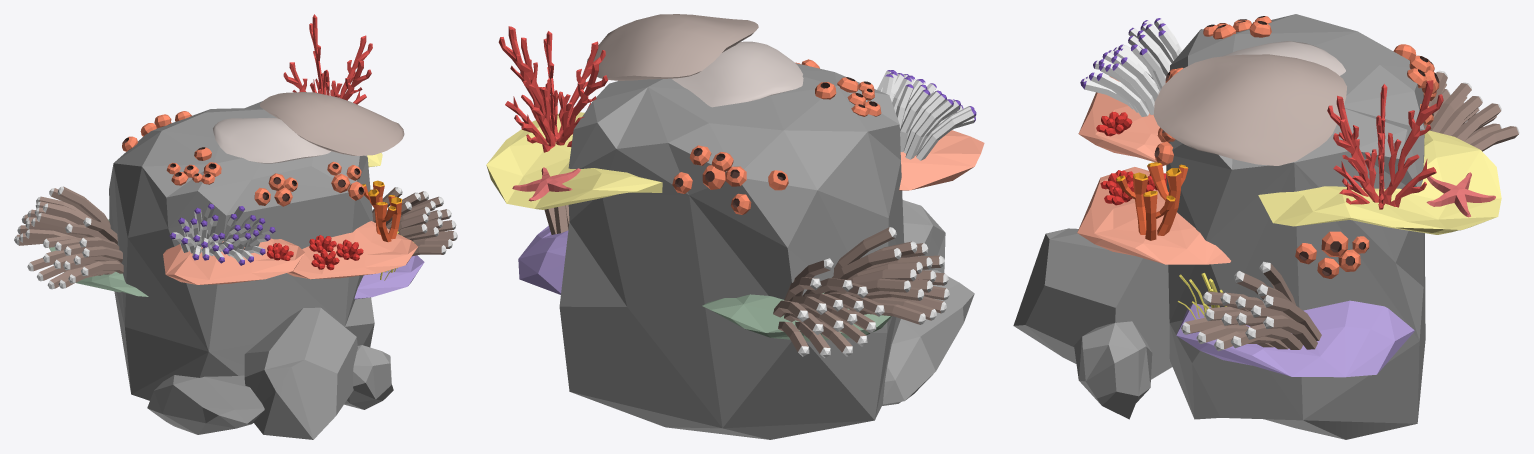
Rendered from CoralReef2.glb.
3 renders of one model, left to right at view 1: azimuth 30°, elevation 25°; view 2: azimuth 150°, elevation 25°; view 3: azimuth 270°, elevation 25°, orthographic. The views are drawn at different scales.
Visible parts, largest first — view 1: Coral_reef_008; view 2: Coral_reef_008; view 3: Coral_reef_008.
Boxes of the visible parts, bbox=[...] form: Coral_reef_008: bbox=[14, 14, 457, 439]; Coral_reef_008: bbox=[486, 14, 984, 439]; Coral_reef_008: bbox=[1013, 14, 1519, 439].
Size of what is drawn, in the model's own units: 5.57 by 4.35 by 5.05.
1 material, 1 textured.
